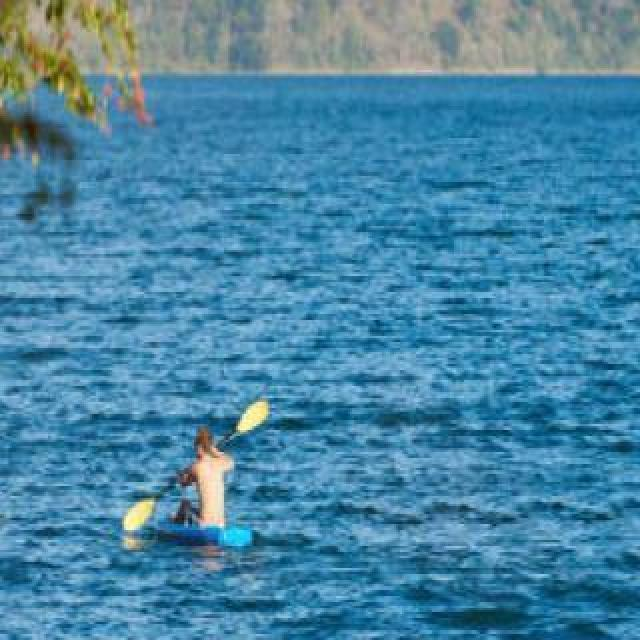kayak: (123, 521, 251, 546)
